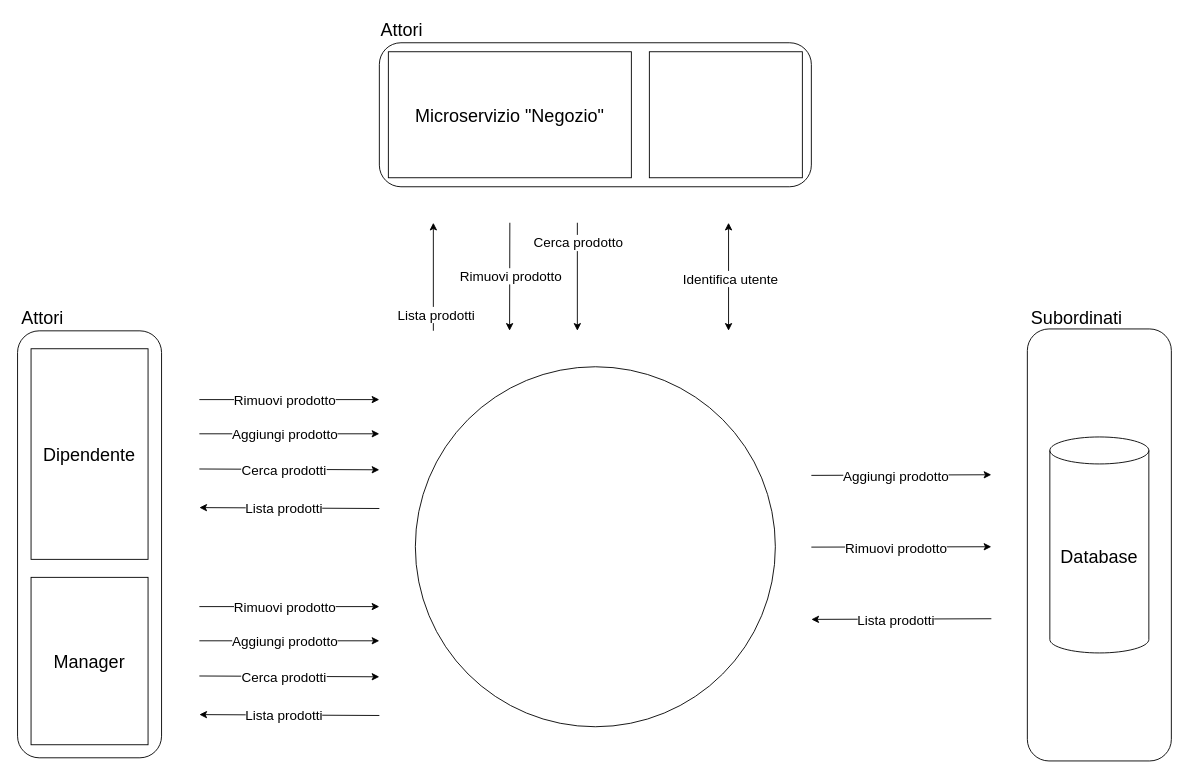
This 1187x777 diagram has some shape labels left out. The centre of each missing label's shape, as x and y in pixels:
Microservizio "Autenticazione": (x=725, y=114)
Microservizio "Magazzino": (x=594, y=546)
